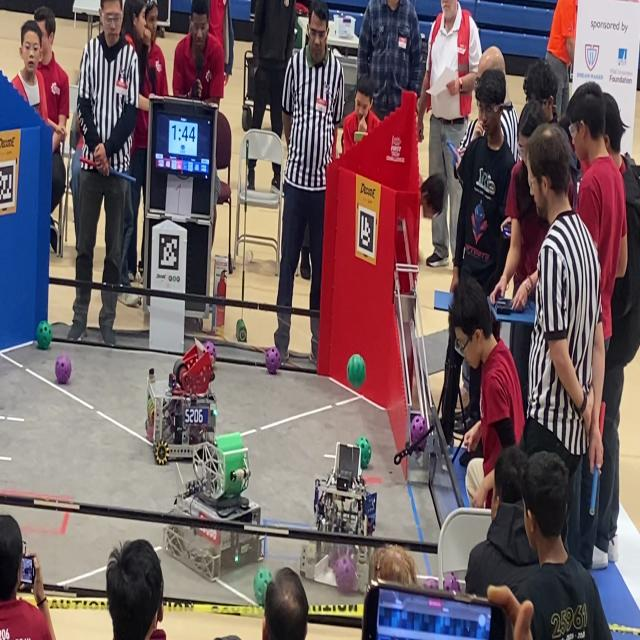artifact_green: (216, 432, 245, 497), (254, 568, 272, 606), (347, 354, 365, 389), (356, 436, 372, 469), (36, 321, 52, 350), (236, 319, 246, 343), (148, 398, 154, 415)
artifact_purple: (334, 555, 357, 593), (410, 415, 427, 443), (55, 355, 71, 384), (265, 347, 281, 374), (443, 573, 461, 592), (203, 341, 216, 361), (329, 546, 339, 569), (423, 577, 438, 589)
